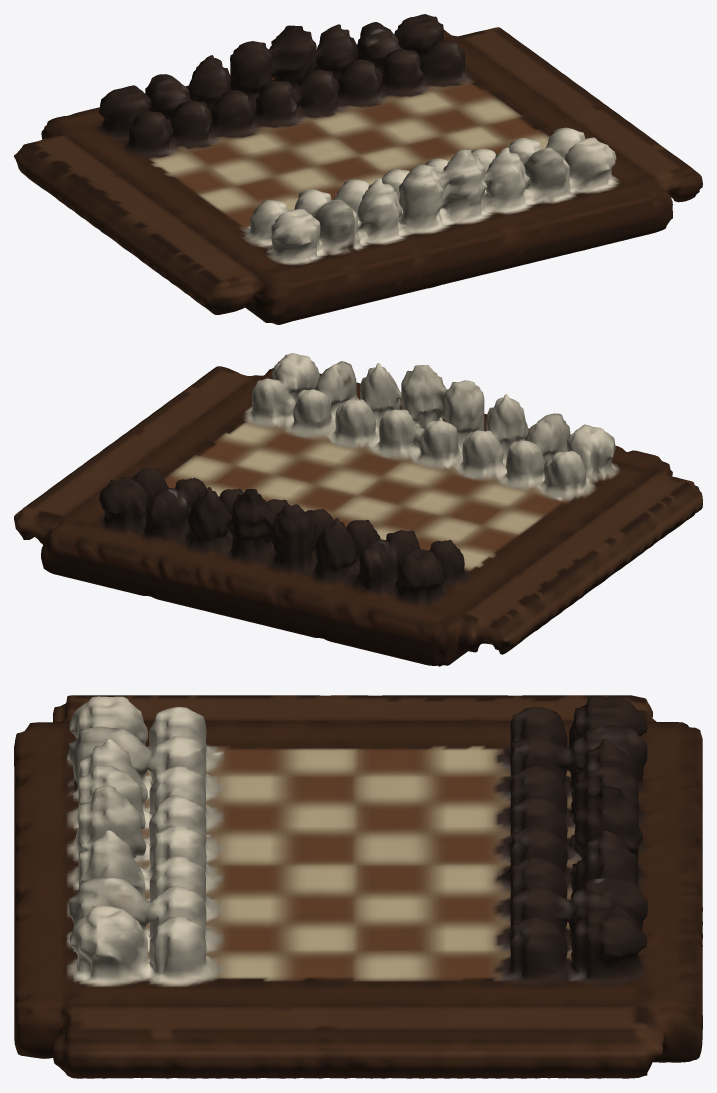
The model's file is chess-set.glb.
3 views of the same model, one above another, from view 1: azimuth 30°, elevation 25°; view 2: azimuth 150°, elevation 25°; view 3: azimuth 270°, elevation 25° (orthographic). The views are drawn at different scales.
Visible parts, largest first — view 1: chess-set; view 2: chess-set; view 3: chess-set.
Boxes of the visible parts, left/top/right/bottom form: chess-set: left=14, top=14, right=702, bottom=324; chess-set: left=14, top=353, right=702, bottom=666; chess-set: left=14, top=695, right=702, bottom=1078.
Bounding box in the file's own units: 0.1 × 0.0205 × 0.082.
